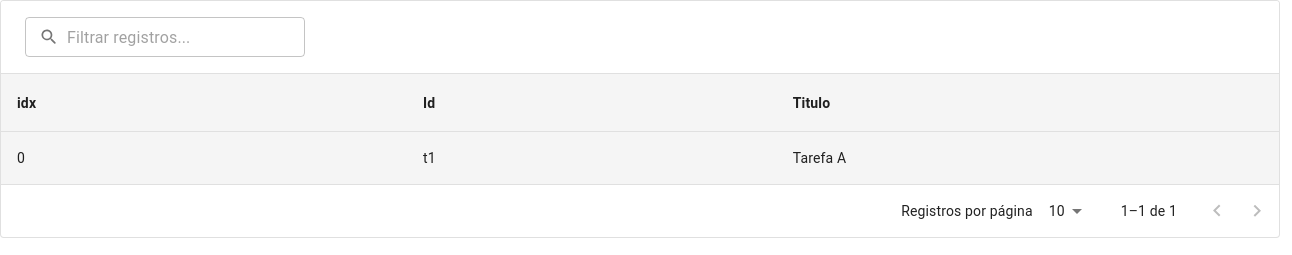
it: ExternalScreen — master/detail (st-10) › exibe erro ao falhar ao carregar detalhe
The width and height of the screenshot is (1292, 255).
Click the text "Tarefa A".
click(1028, 159)  # box [777,132,1279,185]
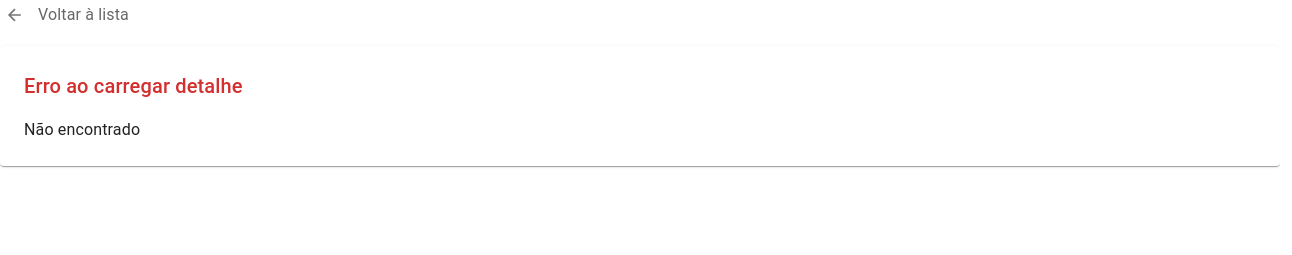
Result: the heading "Erro ao carregar detalhe" is shown at [24,74,243,98]
Result: the text "Não encontrado" is shown at [24,120,140,139]
